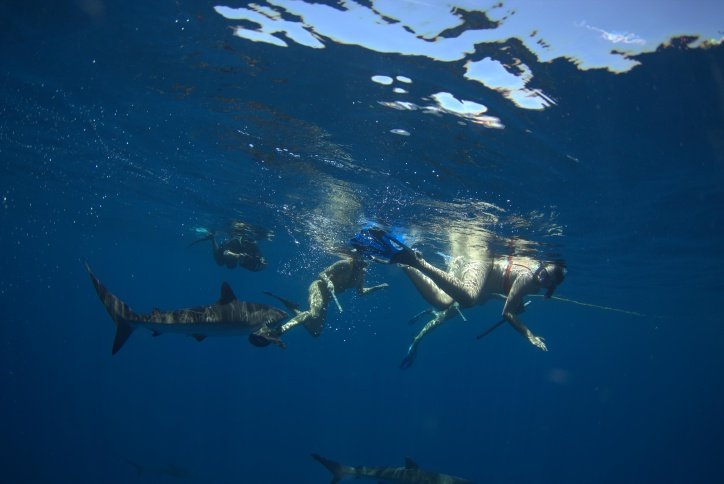Sedoso: (58, 248, 295, 369)
